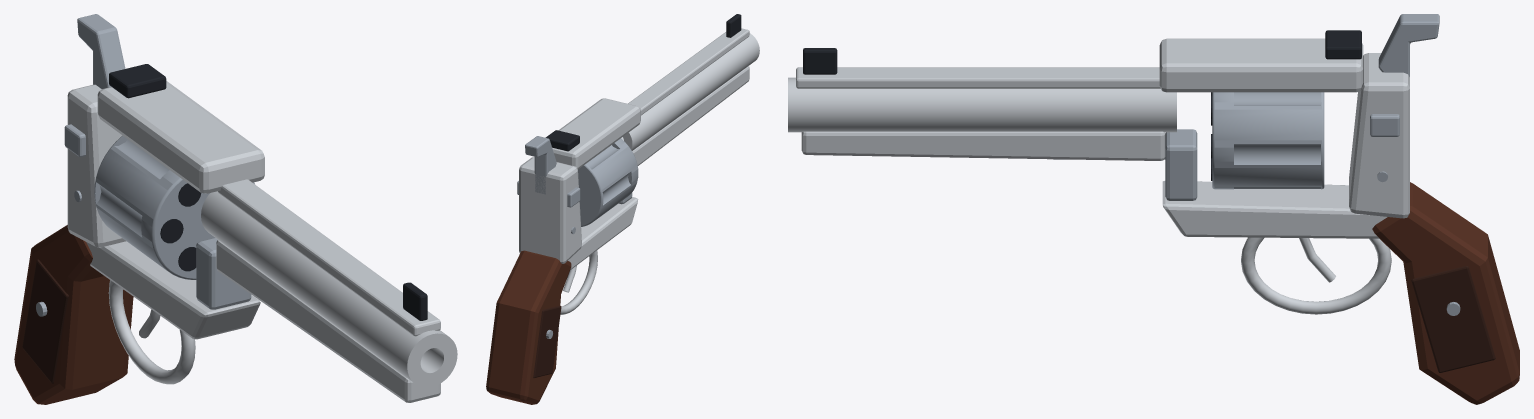
The model's file is magnum-44.glb.
3 renders of one model, left to right at view 1: azimuth 30°, elevation 25°; view 2: azimuth 150°, elevation 25°; view 3: azimuth 270°, elevation 25°, orthographic. The views are drawn at different scales.
Visible parts, largest first — view 1: magnum-44; view 2: magnum-44; view 3: magnum-44.
Boxes of the visible parts, <box> form: magnum-44: <box>14,14,457,404</box>; magnum-44: <box>486,14,759,404</box>; magnum-44: <box>788,14,1519,404</box>.
Bounding box in the file's own units: 0.052 × 0.1808 × 0.32.
Materials: 1 (1 with a texture image).
